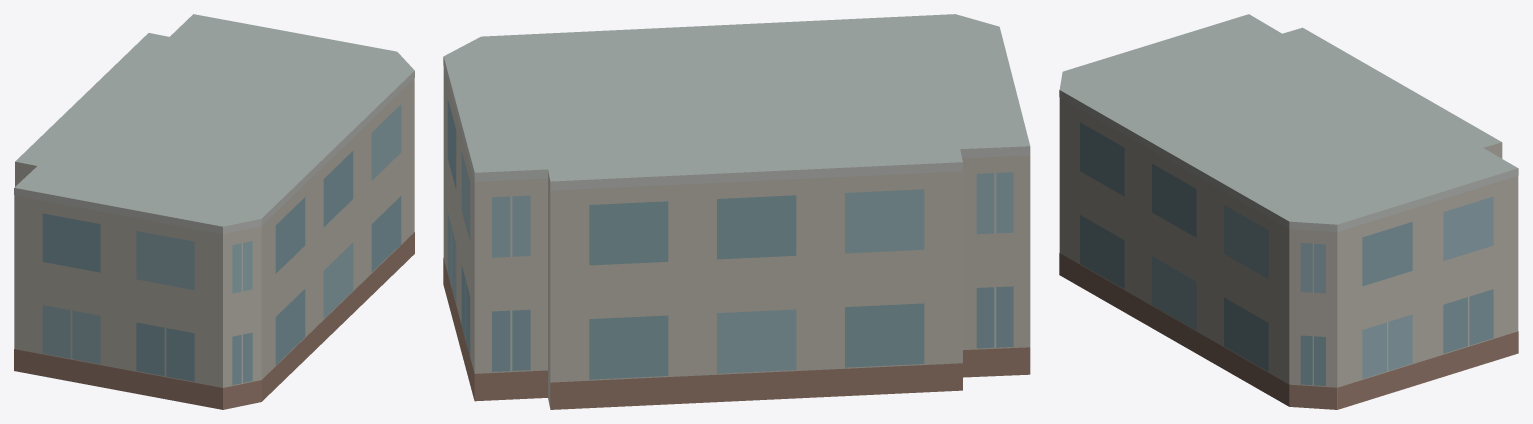
File: survey-upis-32657175.glb
3 renders of one model, left to right at view 1: azimuth 30°, elevation 25°; view 2: azimuth 150°, elevation 25°; view 3: azimuth 270°, elevation 25°, orthographic. The views are drawn at different scales.
Visible parts, largest first — view 1: survey-upis-32657175.tmp; view 2: survey-upis-32657175.tmp; view 3: survey-upis-32657175.tmp.
Part boxes in pixels (x1,y1,x2,y2): survey-upis-32657175.tmp: (14,14,414,409); survey-upis-32657175.tmp: (443,14,1030,409); survey-upis-32657175.tmp: (1059,14,1518,409).
Size of the model in its own units: 14.89 by 6.1 by 13.71.
